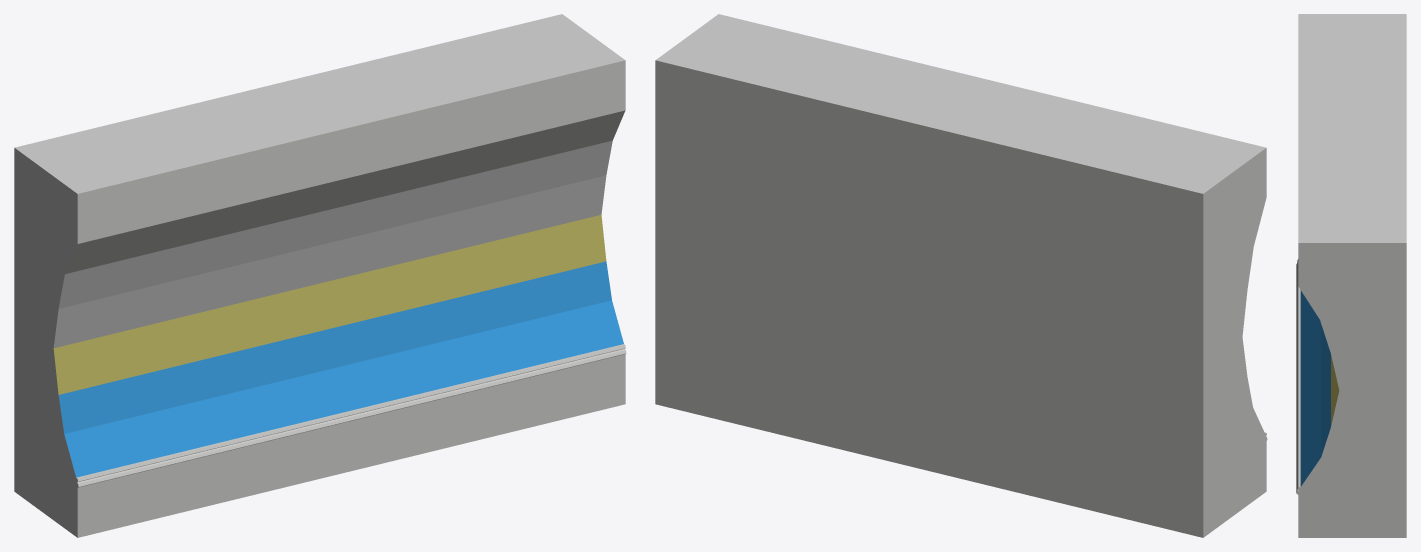
File: SM_Wall.fbx
3 views of the same model, side by side, from view 1: azimuth 30°, elevation 25°; view 2: azimuth 150°, elevation 25°; view 3: azimuth 270°, elevation 25° (orthographic). The views are drawn at different scales.
Visible parts, largest first — view 1: SM_Wall_Edge_OneSide; view 2: SM_Wall_Edge_OneSide; view 3: SM_Wall_Edge_OneSide.
Boxes of the visible parts, x1,y1,x2,y2 form: SM_Wall_Edge_OneSide: (14,14,626,537); SM_Wall_Edge_OneSide: (655,14,1267,537); SM_Wall_Edge_OneSide: (1296,14,1406,537).
Size of the model in its own units: 1000 by 600 by 203.
